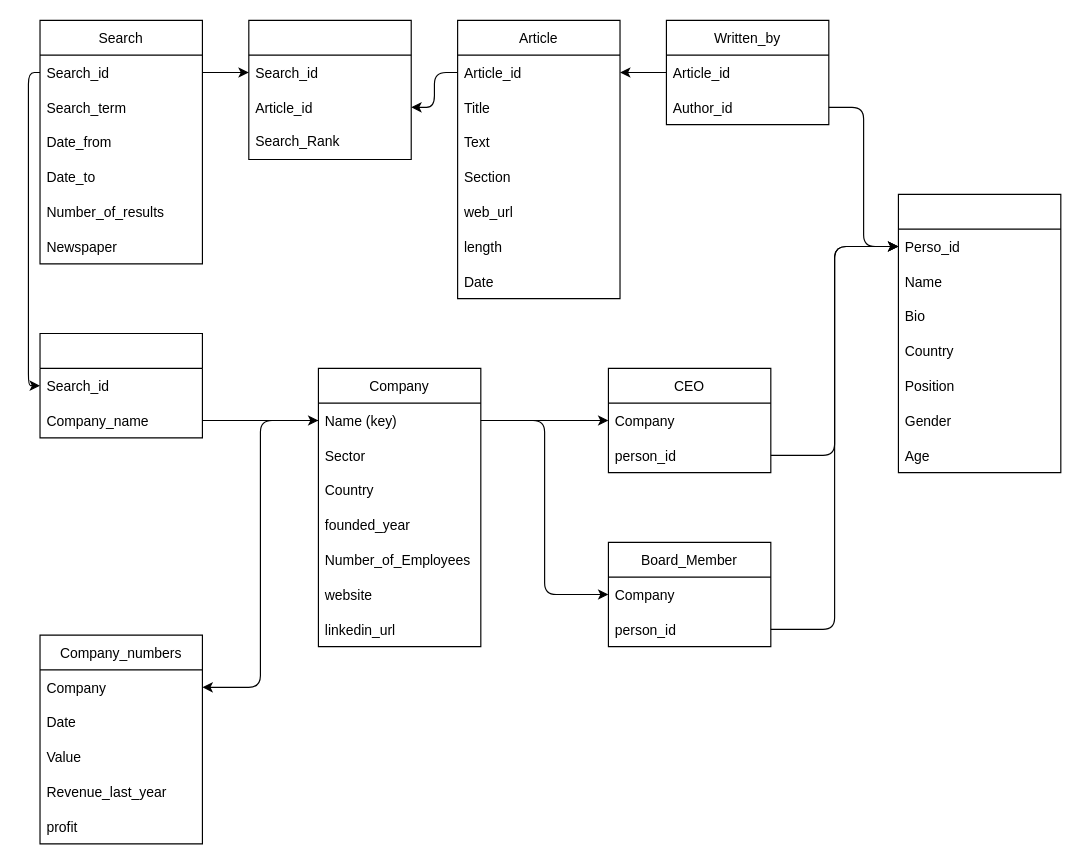
This 1081x864 diagram has some shape labels left out. The shapes that lost their labels are listed below. From the top down, each one's box as (x1, y1, x2, y2) in pixels, then its label:
(248, 19, 411, 160): Article_Search
(897, 193, 1061, 473): Person
(39, 332, 202, 438): Company_Search
